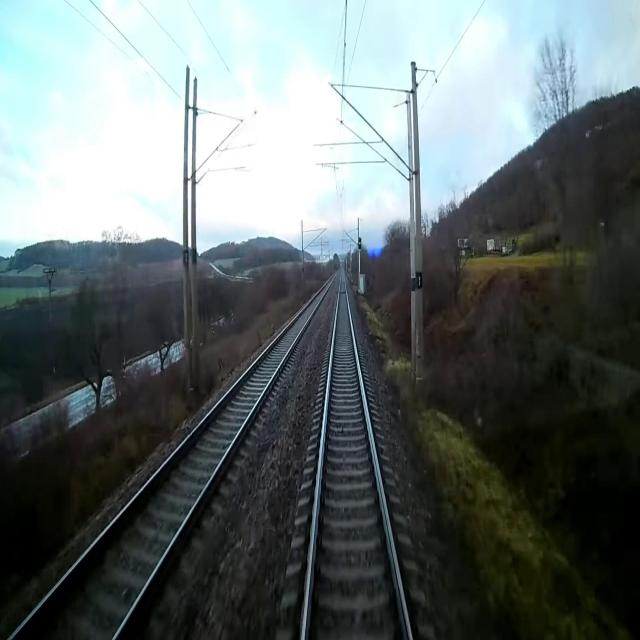rail-track: (13, 275, 334, 639), (306, 270, 409, 639)
